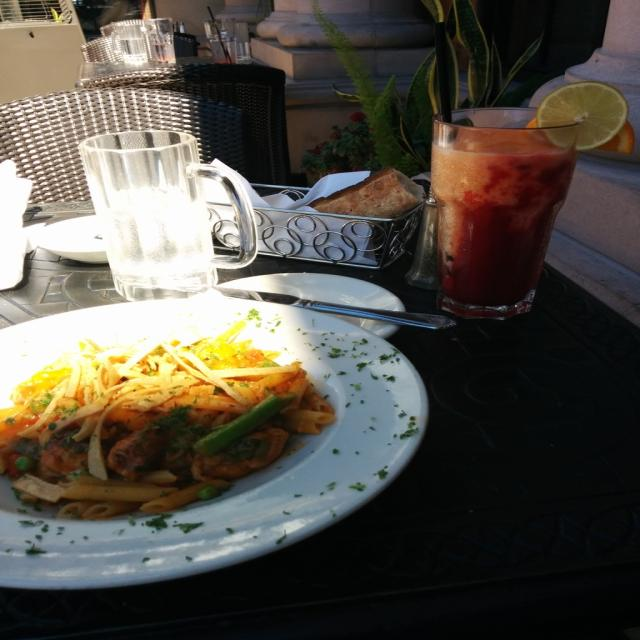Lemon: (539, 80, 628, 151)
